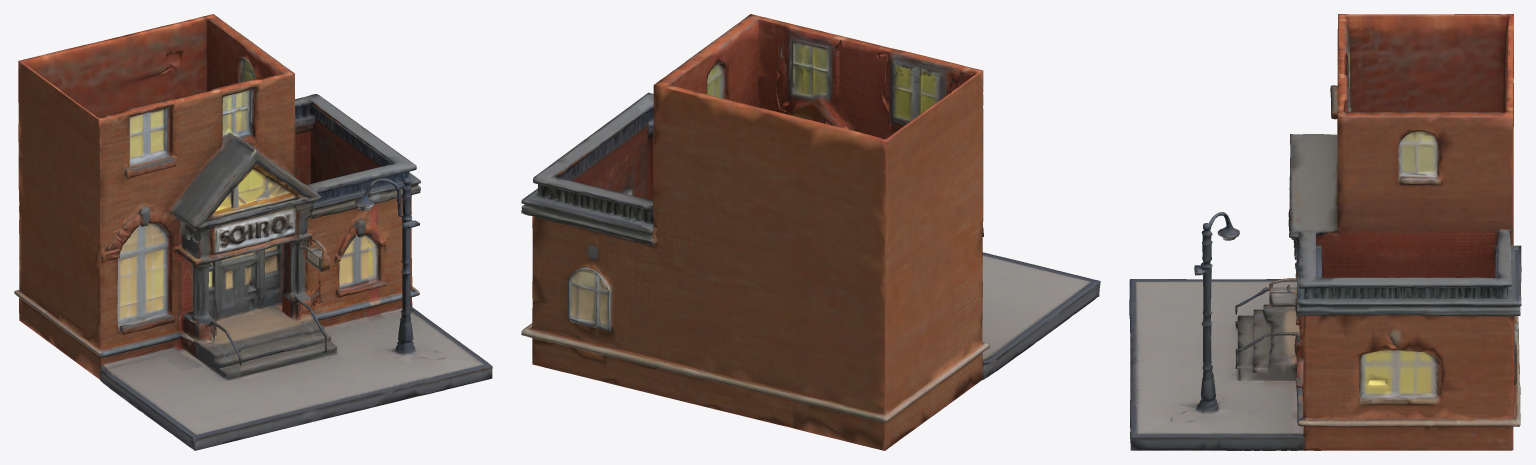
The model's file is school.glb.
3 views of the same model, side by side, from view 1: azimuth 30°, elevation 25°; view 2: azimuth 150°, elevation 25°; view 3: azimuth 270°, elevation 25° (orthographic). The views are drawn at different scales.
Size of the model in its own units: 1.95 by 1.58 by 2.
1 material, 1 textured.
